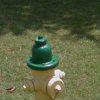Hydrant: (26, 23, 68, 98)
